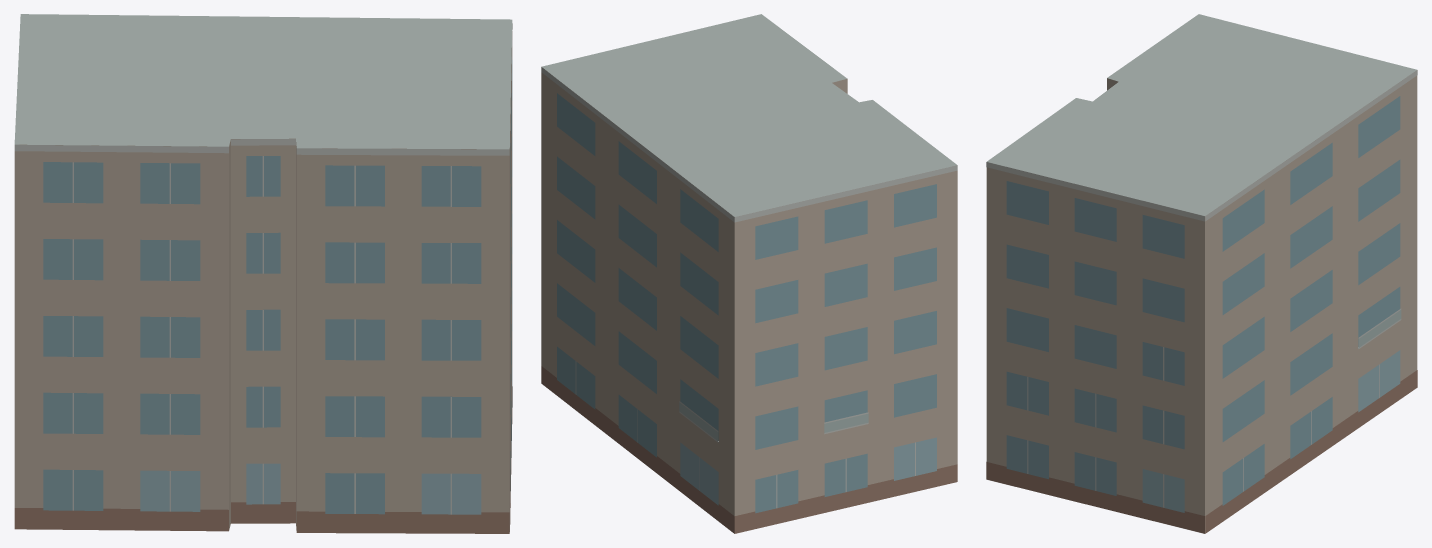
File: survey-upis-32511848.glb
The picture shows the model from 3 angles, left to right: view 1: azimuth 30°, elevation 25°; view 2: azimuth 150°, elevation 25°; view 3: azimuth 270°, elevation 25°; orthographic projection. The views are drawn at different scales.
Parts seen in each view (by area): view 1: survey-upis-32511848.tmp; view 2: survey-upis-32511848.tmp; view 3: survey-upis-32511848.tmp.
Boxes of the visible parts, <box> form: survey-upis-32511848.tmp: <box>14,14,512,533</box>; survey-upis-32511848.tmp: <box>541,14,957,533</box>; survey-upis-32511848.tmp: <box>986,14,1417,533</box>.
Size of the model in its own units: 19.6 by 14.35 by 17.65.
